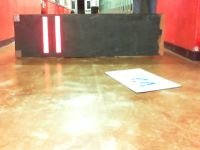switch: (55, 16, 62, 54), (42, 17, 49, 54)
